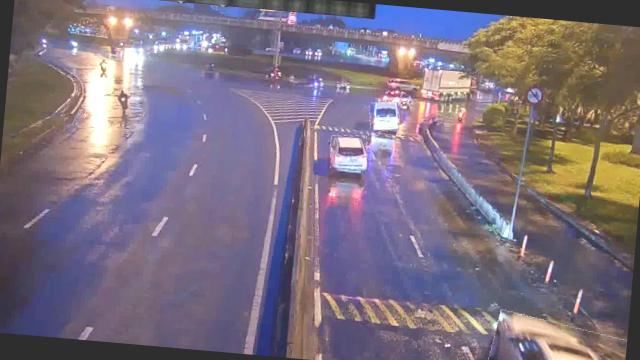Bike: (116, 90, 130, 112)
Bus: (368, 100, 402, 133)
Car: (488, 314, 628, 360), (329, 134, 368, 171)
Truck: (421, 68, 474, 100)
